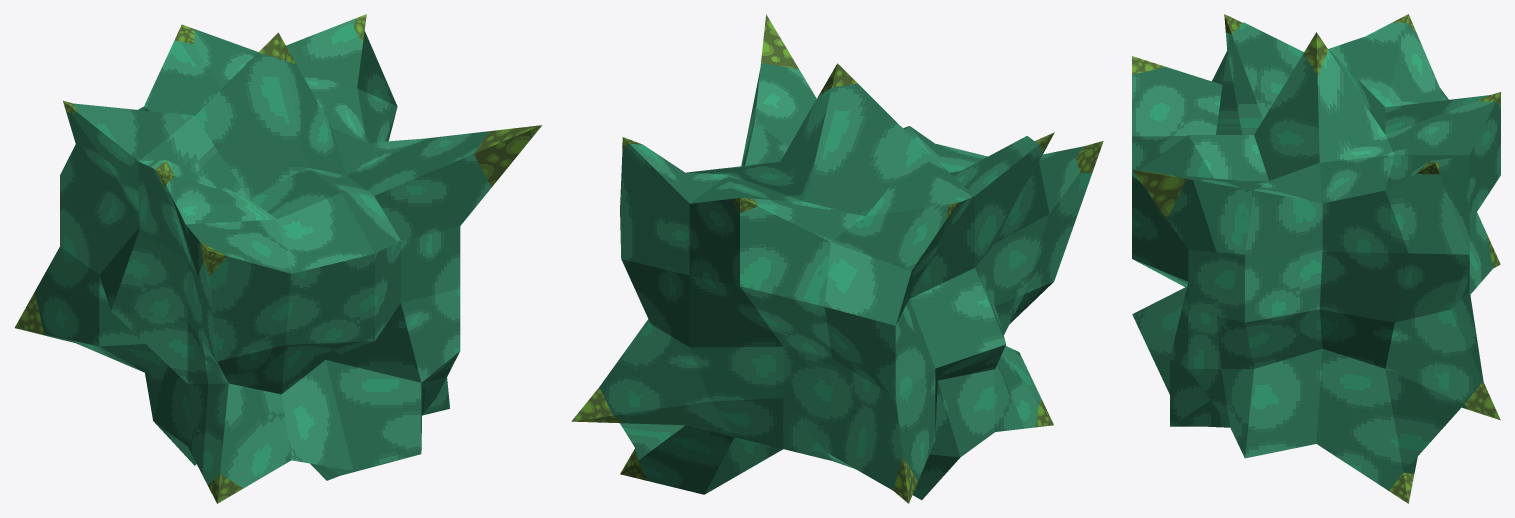
Rendered from Dimrock.glb.
3 views of the same model, side by side, from view 1: azimuth 30°, elevation 25°; view 2: azimuth 150°, elevation 25°; view 3: azimuth 270°, elevation 25° (orthographic). The views are drawn at different scales.
Parts seen in each view (by area): view 1: Cube; view 2: Cube; view 3: Cube.
Boxes of the visible parts, x1,y1,x2,y2 form: Cube: (14, 14, 542, 503); Cube: (571, 14, 1103, 503); Cube: (1132, 14, 1500, 503).
Size of the model in its own units: 2.81 by 3.31 by 2.81.
Materials: 2 (2 with a texture image).
